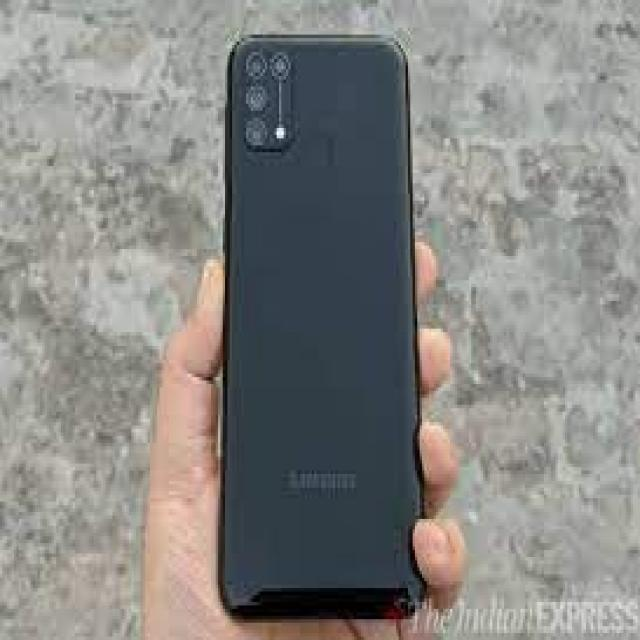Mobile: (217, 29, 427, 627)
